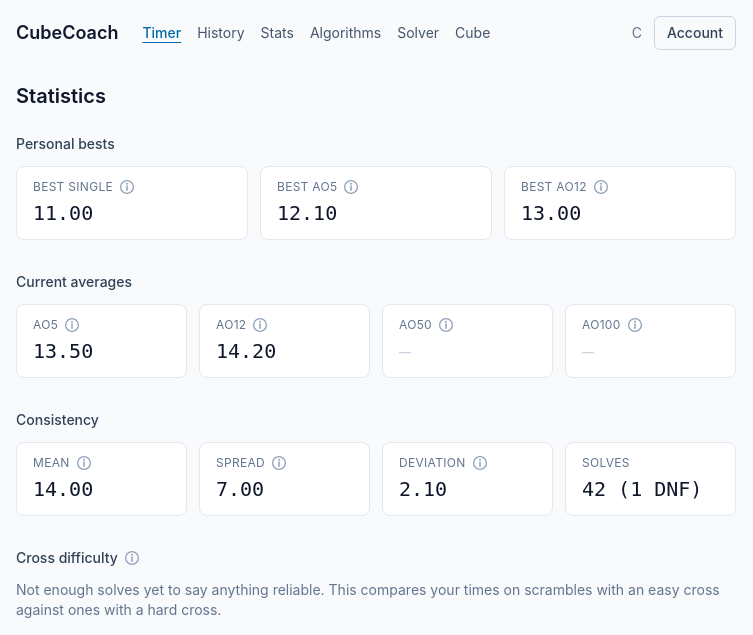
Test case: StatsPage explanations › explains what a wide spread means, not just what it measures
This screenshot has width=753, height=635.
Expected: the text "11.00" is shown, [33,201,93,225]
Click the button named "What is Spread?".
click(279, 463)  # box [271,455,287,471]
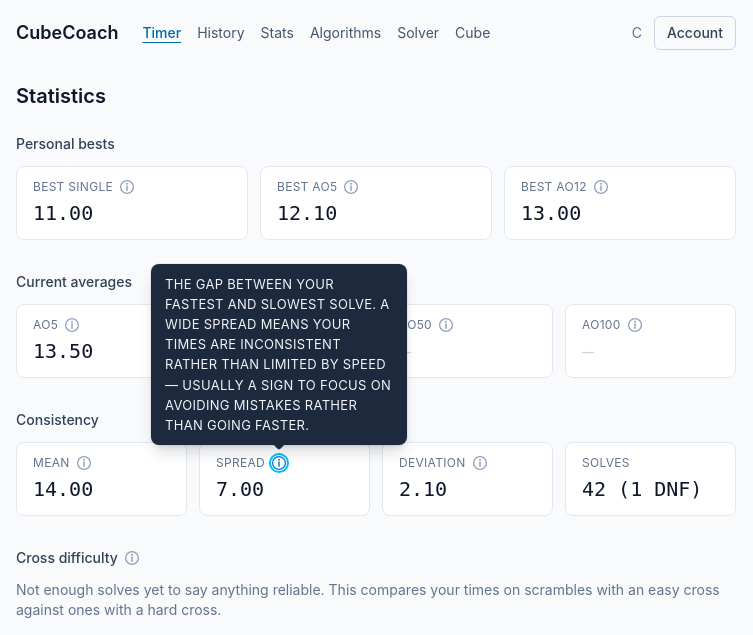
Now the tooltip shows "inconsistent rather than limited by speed", box [165,276,391,433]
